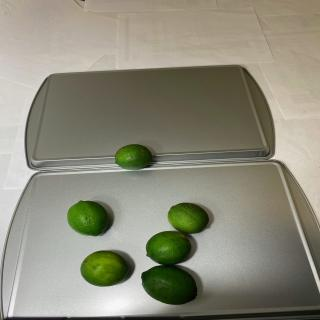Lemon: (140, 265, 198, 305), (80, 250, 129, 287), (146, 231, 192, 265), (67, 200, 109, 236), (167, 202, 209, 234), (115, 144, 152, 170)
